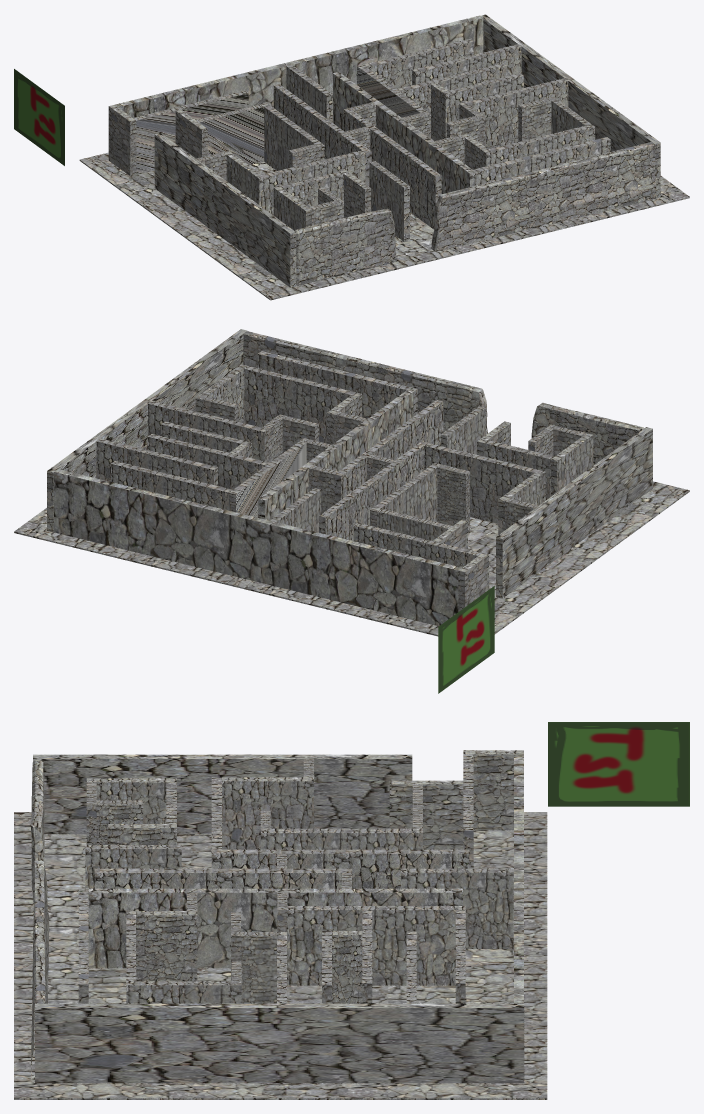
Rendered from 2labirint.glb.
The picture shows the model from 3 angles, top to bottom: view 1: azimuth 30°, elevation 25°; view 2: azimuth 150°, elevation 25°; view 3: azimuth 270°, elevation 25°; orthographic projection. The views are drawn at different scales.
Visible parts, largest first — view 1: wall.036, tla, wall.041, wall.031, wall.01, wall.02, wall.010, wall.08, Trigger.001, wall.042, wall.027, wall.030 (+27 smaller); view 2: wall.031, tla, wall.041, wall.02, wall.036, wall.016, wall.010, Trigger.001, wall.05, wall.06, wall.019, wall.08 (+28 smaller); view 3: wall.02, tla, wall.041, wall.010, Trigger.001, wall.012, wall.06, wall.04, wall.032, wall.08, wall.015, wall.028 (+22 smaller).
Boxes of the visible parts, box(x1,y1,x2,y2) form: wall.036: box(431, 142, 656, 251); tla: box(79, 109, 689, 300); wall.041: box(154, 133, 296, 287); wall.031: box(115, 15, 483, 117); wall.01: box(294, 208, 396, 285); wall.02: box(480, 14, 660, 197); wall.010: box(333, 72, 472, 194); wall.08: box(343, 108, 441, 229); Trigger.001: box(14, 69, 64, 165); wall.042: box(459, 78, 568, 149); wall.027: box(196, 104, 264, 164); wall.030: box(133, 90, 248, 174); wall.031: box(54, 469, 461, 626); tla: box(14, 481, 689, 636); wall.041: box(496, 427, 652, 598); wall.02: box(47, 329, 247, 532); wall.036: box(243, 331, 487, 434); wall.016: box(244, 366, 361, 443); wall.010: box(258, 390, 413, 520); Trigger.001: box(438, 586, 494, 693); wall.05: box(424, 443, 545, 523); wall.06: box(319, 441, 427, 540); wall.019: box(258, 351, 417, 418); wall.08: box(334, 400, 443, 504); wall.02: box(35, 1003, 524, 1083); tla: box(14, 812, 547, 1099); wall.041: box(33, 754, 412, 834); wall.010: box(88, 888, 462, 968); Trigger.001: box(548, 722, 689, 806); wall.012: box(287, 906, 465, 985); wall.06: box(211, 849, 469, 888); wall.04: box(222, 777, 313, 849); wall.032: box(401, 868, 513, 948); wall.08: box(94, 868, 351, 888); wall.015: box(136, 911, 197, 981); wall.028: box(389, 780, 463, 849).
Size of the model in its own units: 422 by 56.22 by 407.
2 materials, 2 textured.
